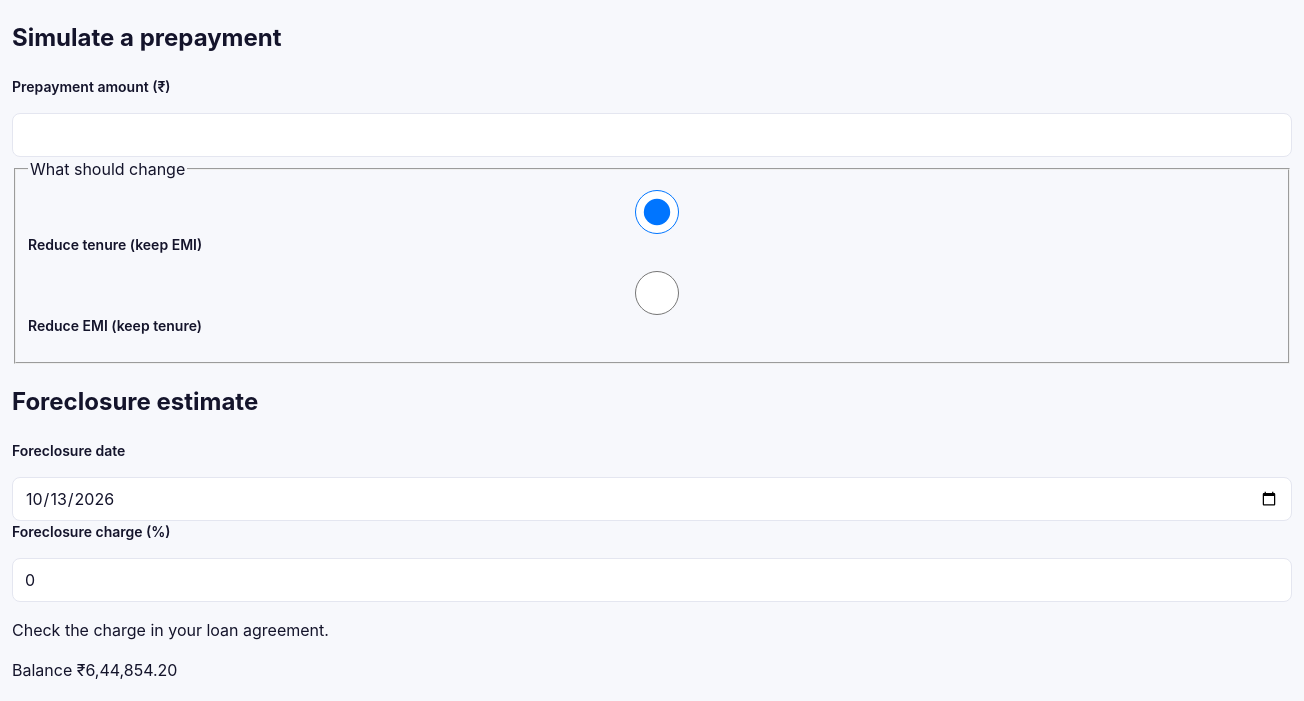
it: LoanSimulators — prepayment (TC-LOAN-07, TC-LOAN-08) › reduce tenure: ₹1,00,000 leaves the EMI unchanged and cuts the months to 38
In the field labelled "Prepayment amount (₹)": [652, 135] box [12, 113, 1292, 157], type "100000"
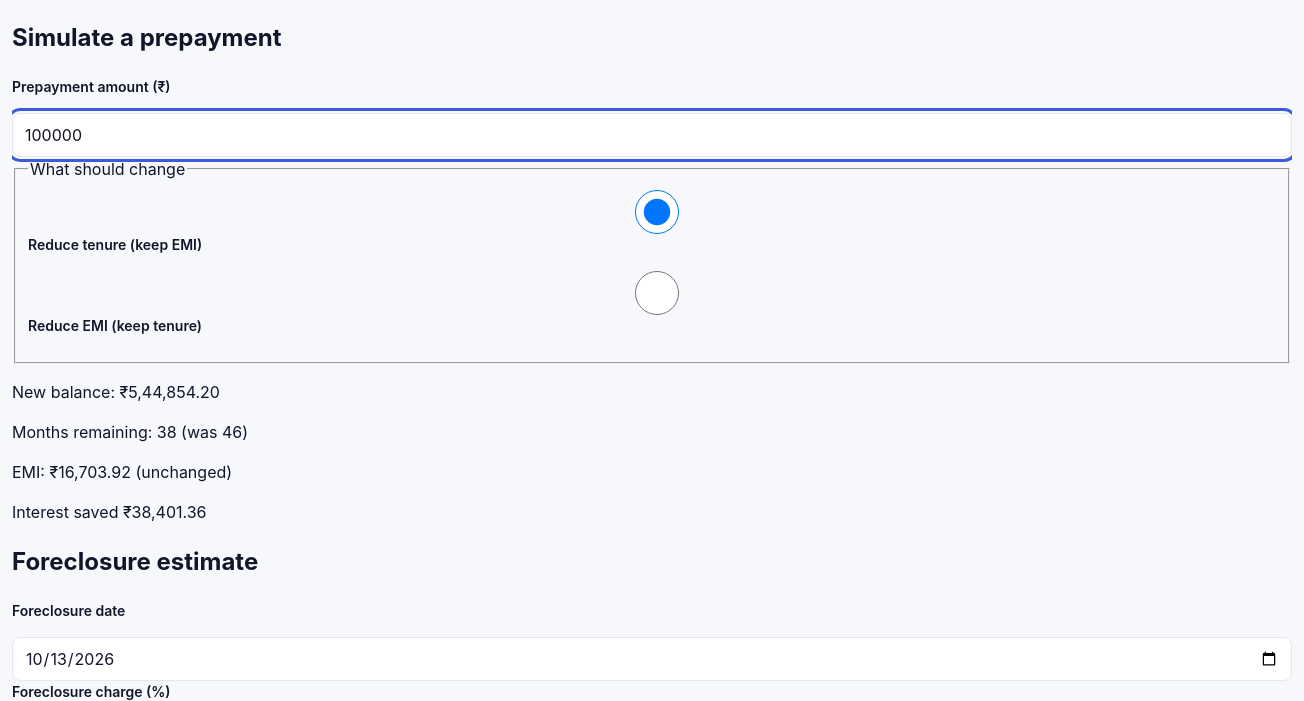
Expected: the element named "Prepayment result" shows "Months remaining: 38 (was 46)", [12, 382, 248, 522]
Expected: the element named "Prepayment result" shows "EMI: ₹16,703.92 (unchanged)", [12, 382, 248, 522]
Expected: the element named "Prepayment result" shows "Interest saved ₹", [12, 382, 248, 522]
